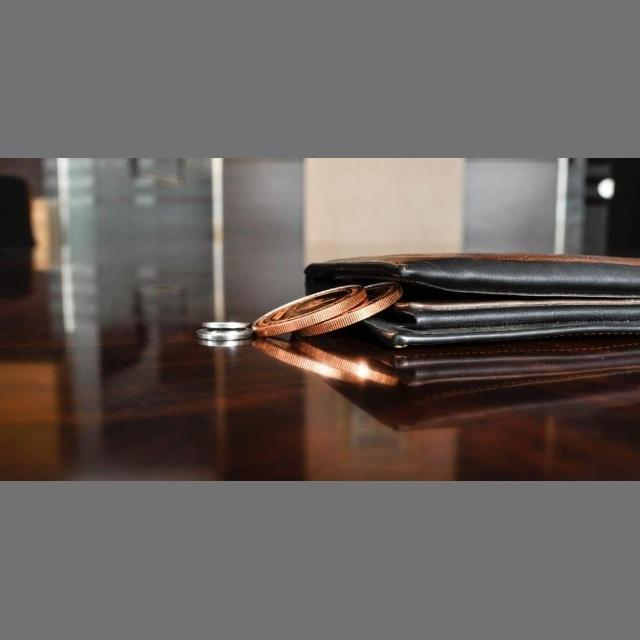Wallet: (298, 234, 640, 390)
